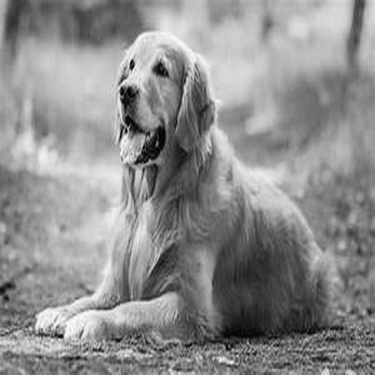dog: (11, 17, 356, 360)
